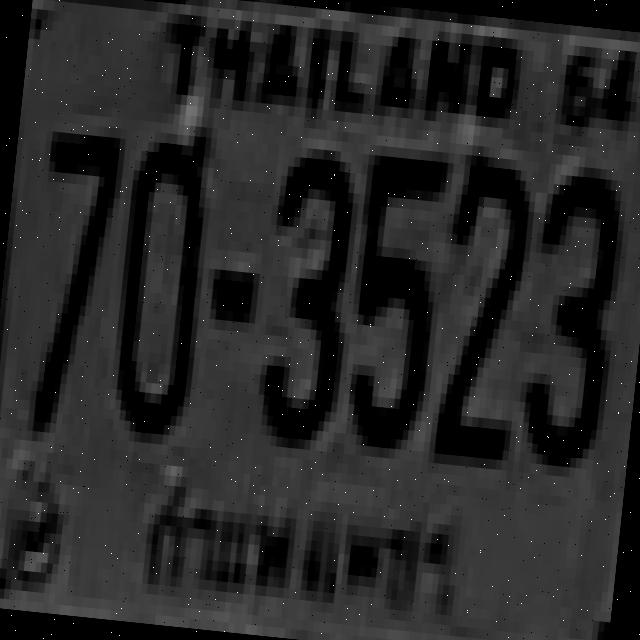0: (102, 119, 212, 426)
2: (429, 149, 534, 455)
3: (514, 153, 624, 460), (254, 146, 357, 442)
5: (340, 144, 443, 440)
7: (16, 120, 120, 427)
KamphaengPhet: (128, 458, 472, 630)
